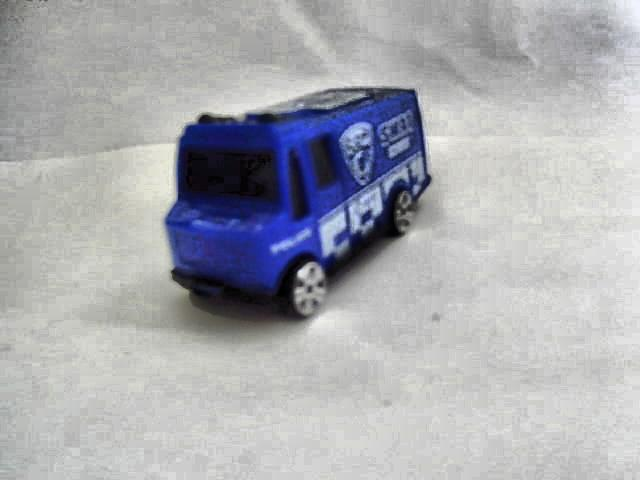police car: (166, 89, 435, 324)
